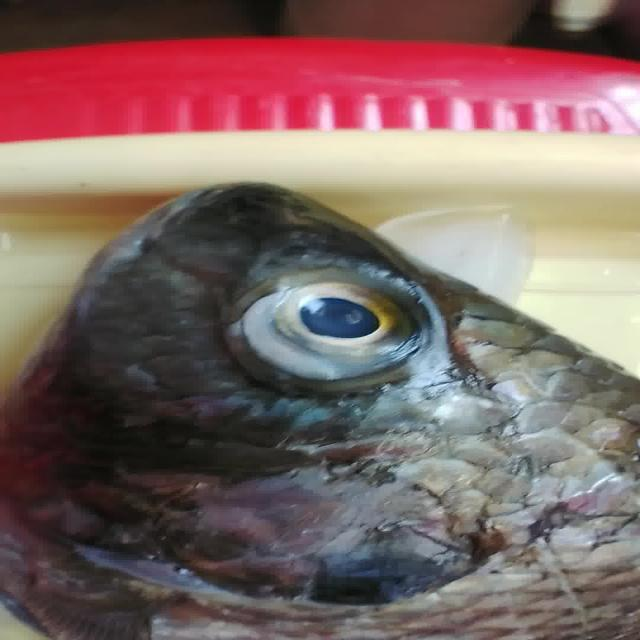Fresh: (204, 252, 459, 393)
